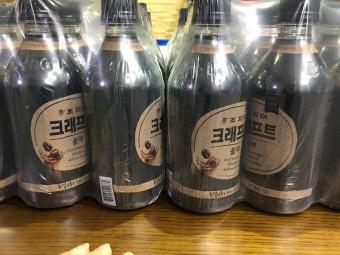georgiacraft_black: (5, 1, 87, 215), (244, 0, 319, 219), (88, 0, 164, 211), (167, 0, 240, 217)
